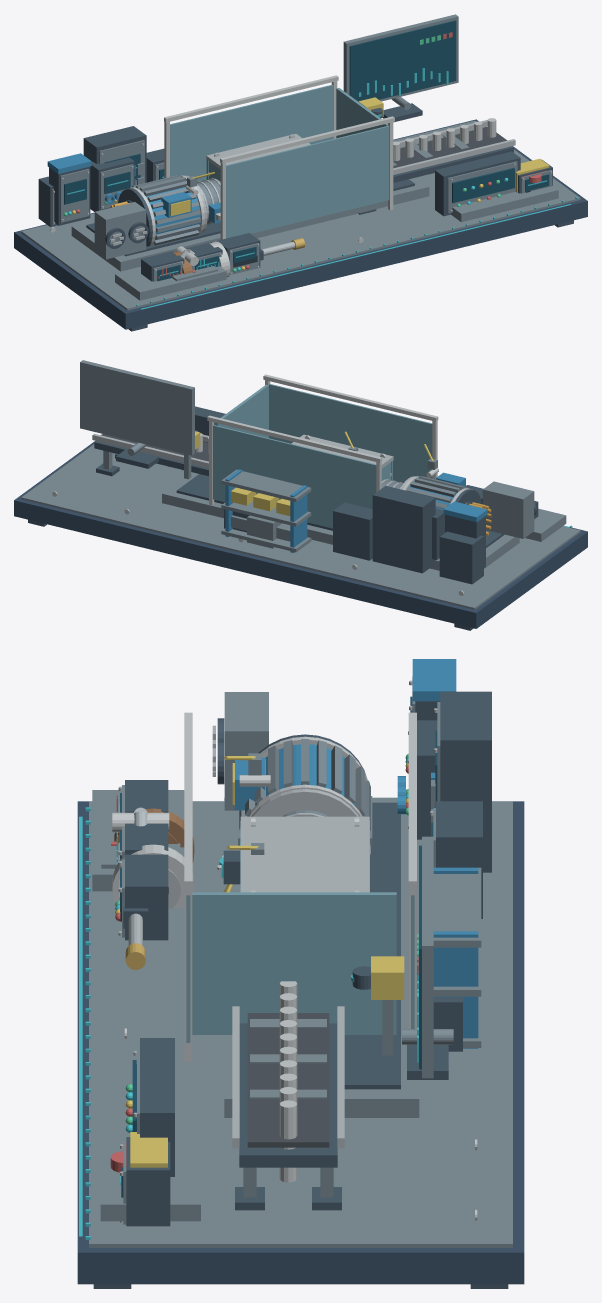
Rendered from Level66_Complete_ArtKit_Showcase.glb.
3 views of the same model, one above another, from view 1: azimuth 30°, elevation 25°; view 2: azimuth 150°, elevation 25°; view 3: azimuth 270°, elevation 25° (orthographic). The views are drawn at different scales.
Visible parts, largest first — view 1: part_1, part_593, part_0, part_591, part_451, part_49, part_547, part_52, part_51, part_450, part_566, part_579 (+28 smaller); view 2: part_1, part_0, part_591, part_450, part_593, part_484, part_547, part_472, part_49, part_507, part_594, part_540 (+19 smaller); view 3: part_1, part_0, part_594, part_150, part_292, part_484, part_49, part_50, part_51, part_291, part_566, part_540 (+26 smaller).
Boxes of the visible parts, x1,y1,x2,y2 form: part_1: (21,120,580,310); part_593: (226,125,389,238); part_0: (14,119,587,329); part_591: (170,84,333,181); part_451: (349,20,456,101); part_49: (71,177,429,271); part_547: (94,202,146,259); part_52: (115,266,226,300); part_51: (451,185,558,221); part_450: (343,14,458,101); part_566: (435,151,520,216); part_579: (452,167,514,202); part_1: (21,444,580,609); part_0: (14,440,587,628); part_591: (213,425,376,528); part_450: (80,360,194,455); part_593: (269,384,432,482); part_484: (372,486,435,573); part_547: (482,481,534,538); part_472: (439,531,483,584); part_49: (162,472,519,570); part_507: (333,502,372,560); part_594: (215,384,268,438); part_540: (221,469,311,501); part_1: (89,801,512,1247); part_0: (77,801,524,1284); part_594: (192,892,396,1034); part_150: (240,816,369,892); part_292: (247,1013,329,1147); part_484: (440,691,491,872); part_49: (224,797,419,1117); part_50: (344,802,400,1089); part_51: (100,1109,200,1221); part_291: (239,1023,337,1167); part_566: (140,1038,174,1176); part_540: (433,867,481,947).
Bounding box in the file's own units: 12.8 × 4.1 × 5.35.
